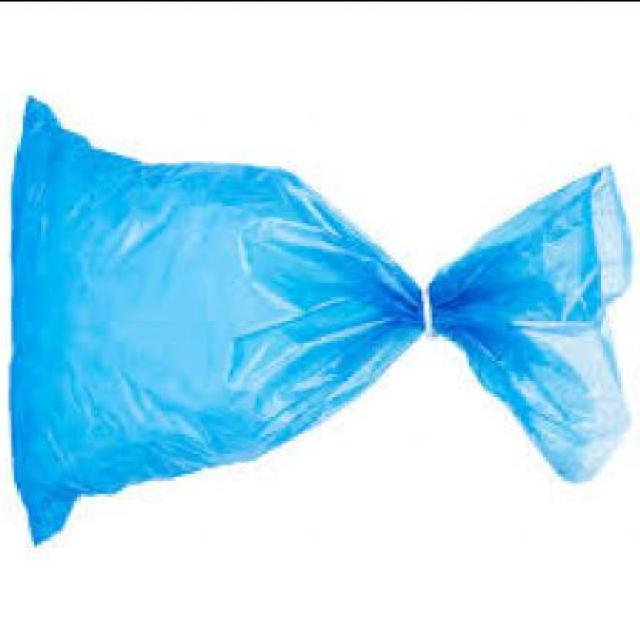PLASTIC: (15, 91, 634, 540)
